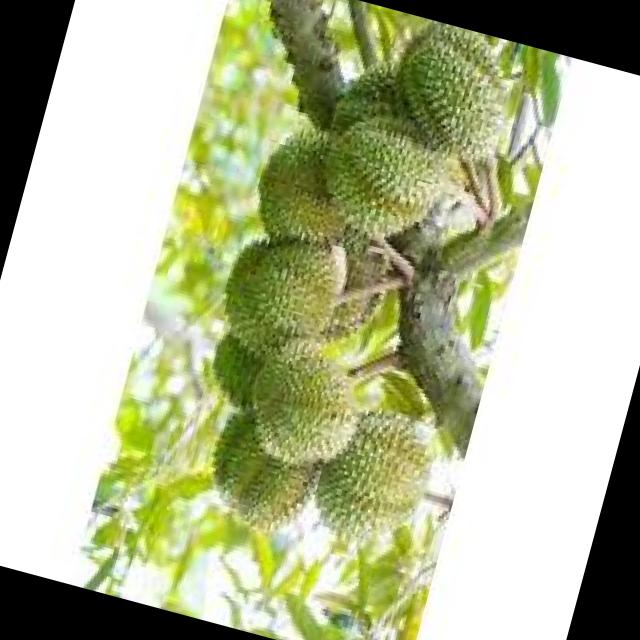fruit: (232, 42, 488, 290), (173, 294, 394, 492), (192, 208, 378, 401), (284, 378, 461, 570)
